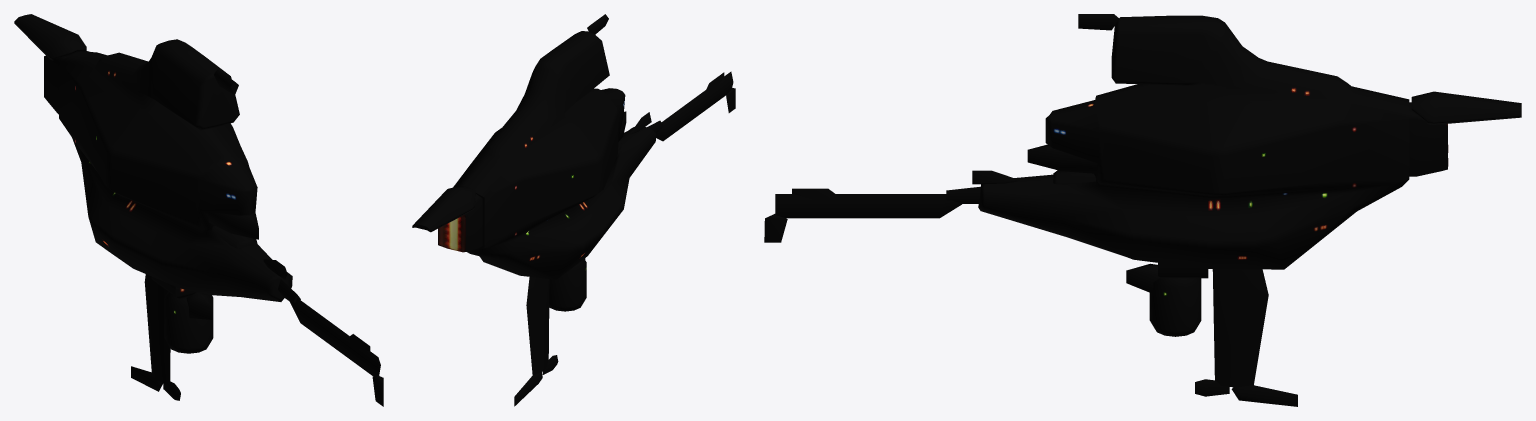
Rendered from yao_sf_scou_01_t2.glb.
The picture shows the model from 3 angles, left to right: view 1: azimuth 30°, elevation 25°; view 2: azimuth 150°, elevation 25°; view 3: azimuth 270°, elevation 25°; orthographic projection. The views are drawn at different scales.
Parts seen in each view (by area): view 1: yao_scout_01_LOD0; view 2: yao_scout_01_LOD0; view 3: yao_scout_01_LOD0.
Part boxes in pixels (x1,y1,x2,y2): yao_scout_01_LOD0: (14, 14, 383, 406); yao_scout_01_LOD0: (412, 14, 735, 406); yao_scout_01_LOD0: (764, 14, 1521, 406).
Size of what is drawn, in the model's own units: 0.1542 by 0.4531 by 0.7913.
1 material, 1 textured.
